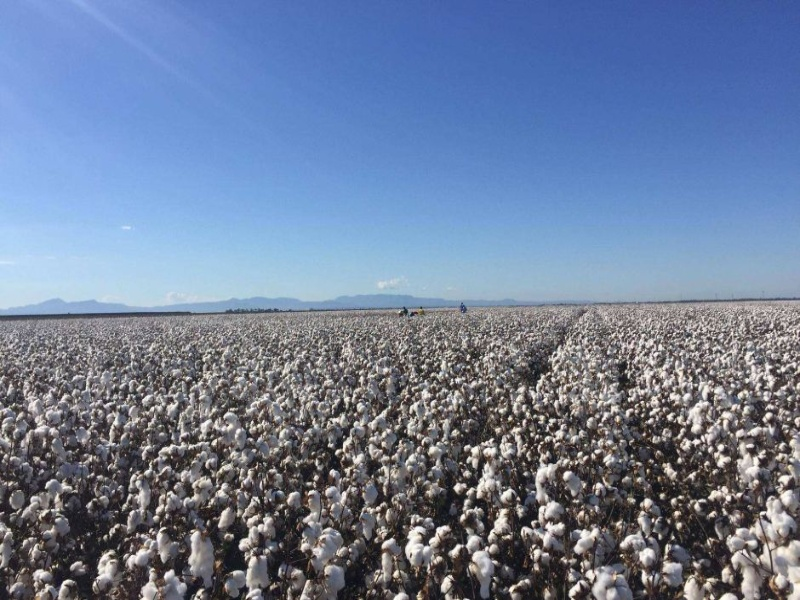cotton: (1, 319, 797, 592)
